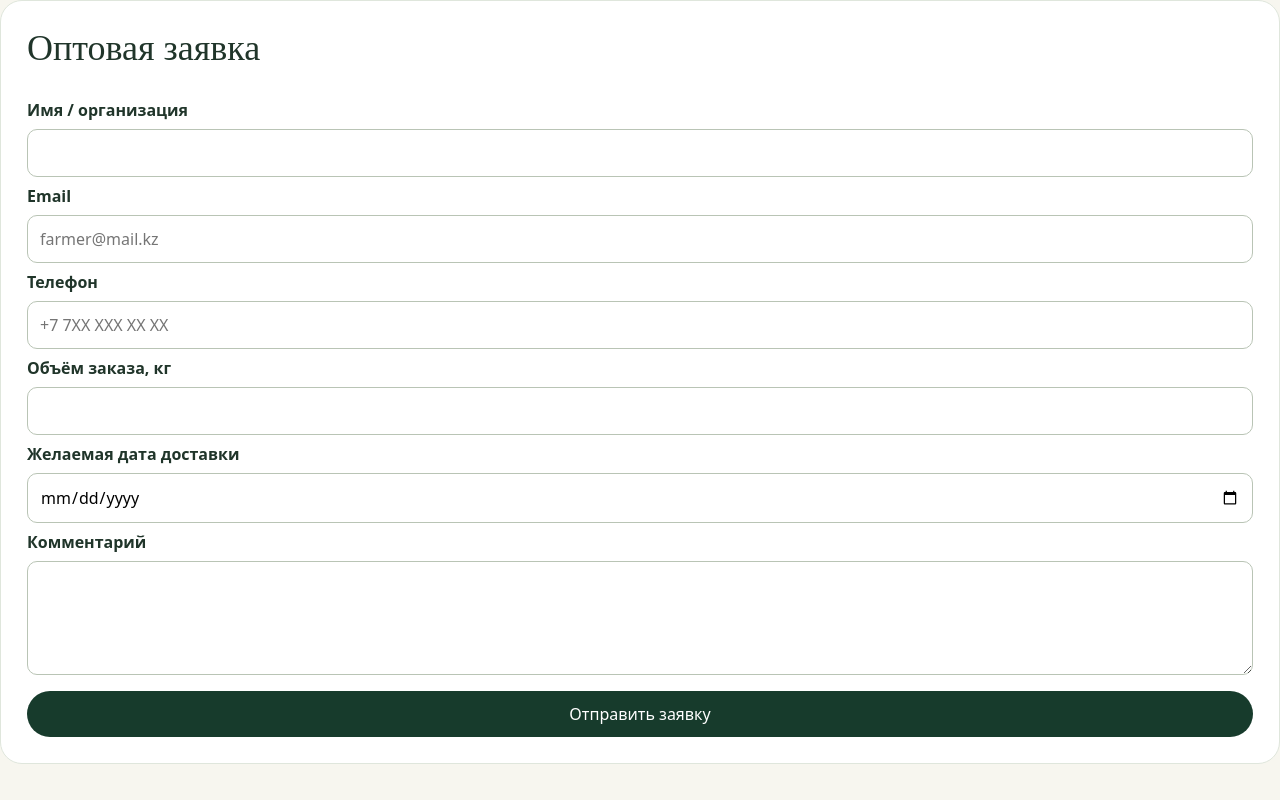
Test: JWT sent with order
Type "Тест" into the field labelled "Имя / организация" at (640, 153), box x1=27 y1=129 x2=1253 y2=177
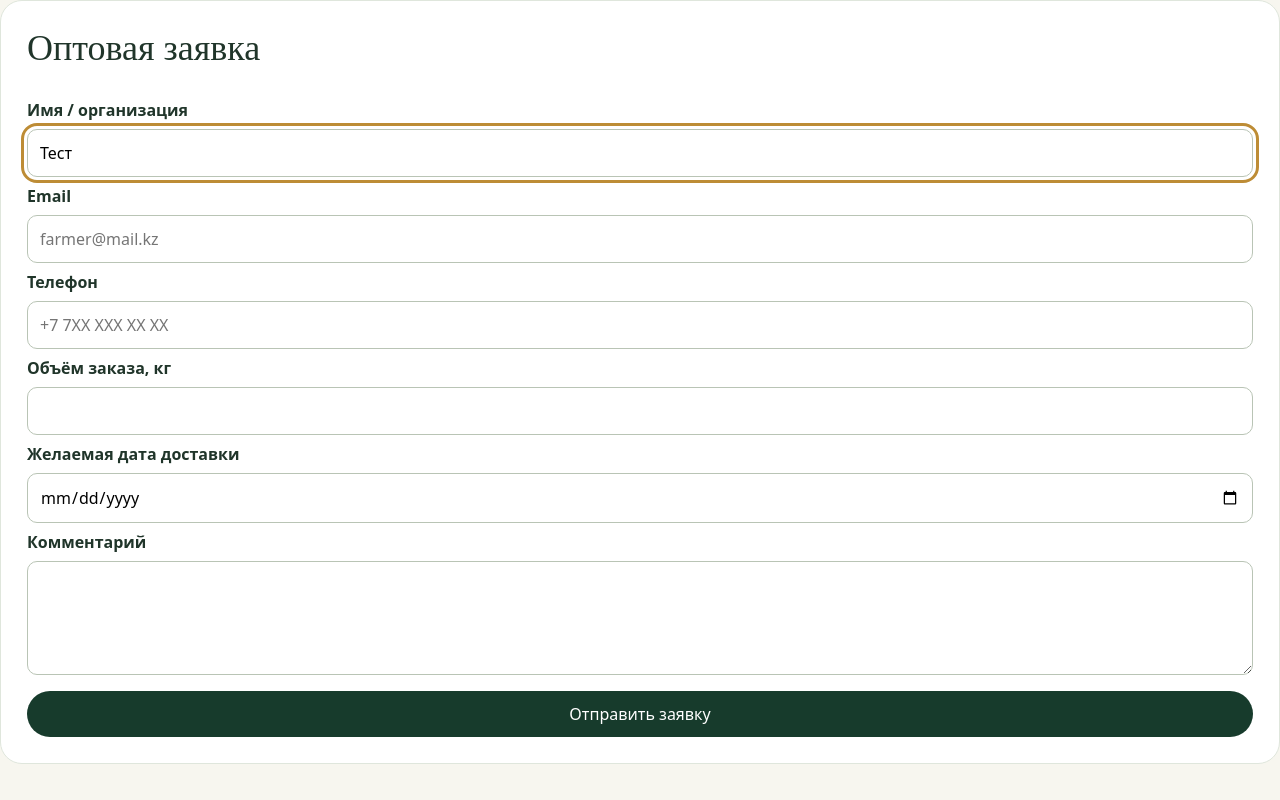
Type "test@example.com" into the field labelled "Email" at (640, 239), box x1=27 y1=215 x2=1253 y2=263
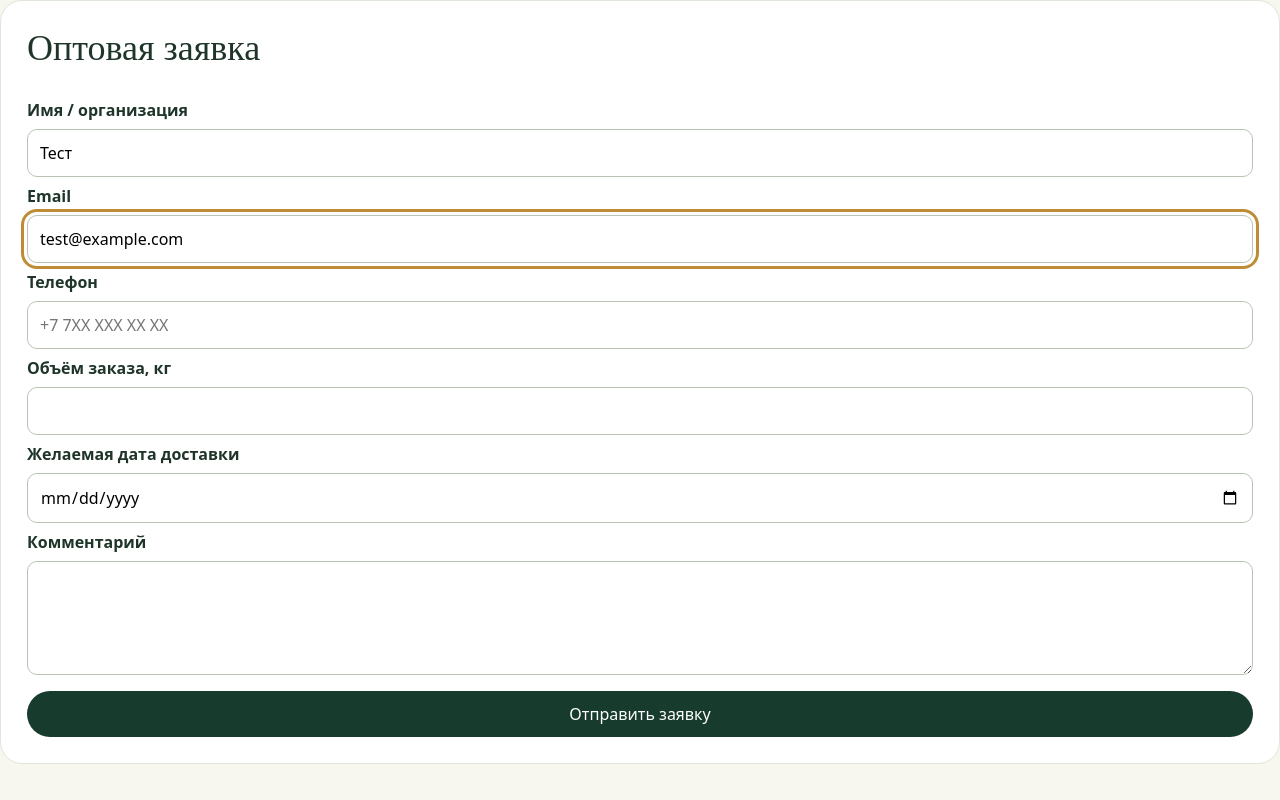
Type "10" into the number field labelled "Объём заказа, кг" at (640, 411), box x1=27 y1=387 x2=1253 y2=435
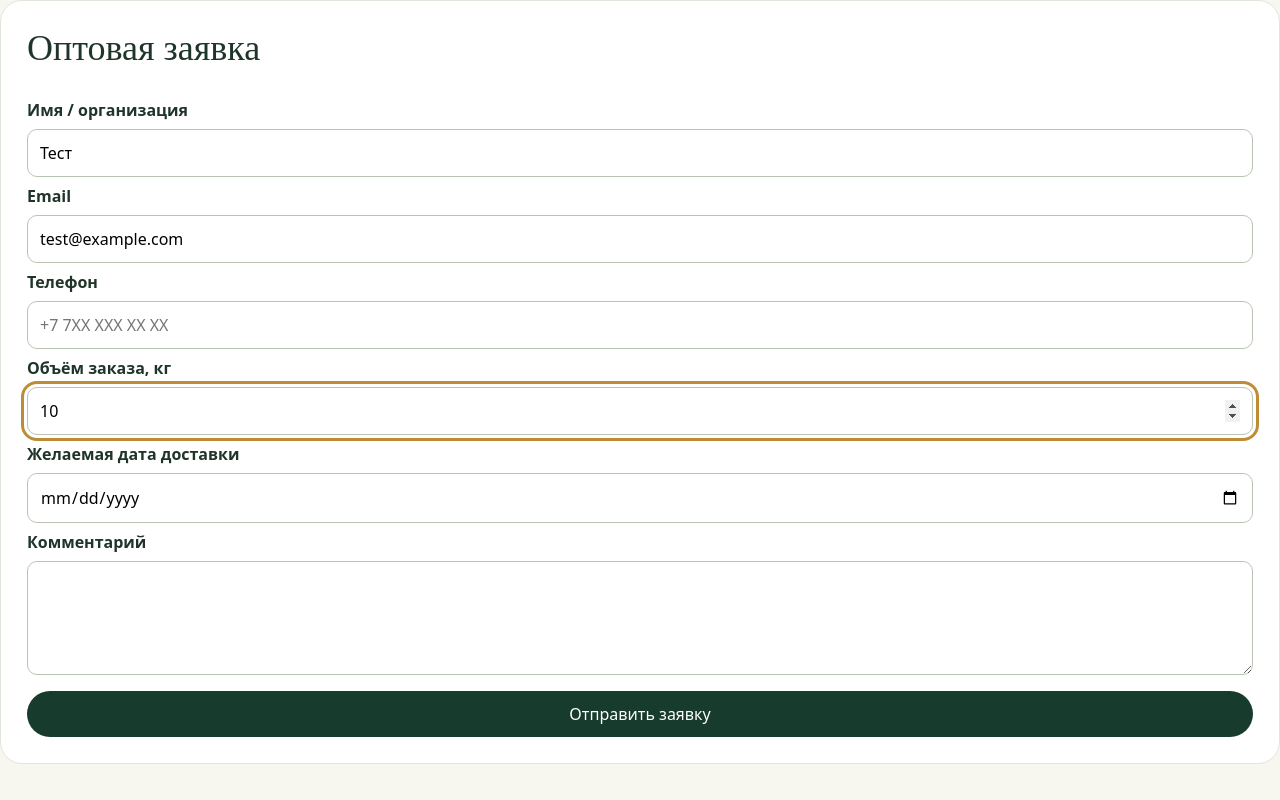
Click the button "Отправить заявку" at (640, 714), box x1=27 y1=691 x2=1253 y2=737
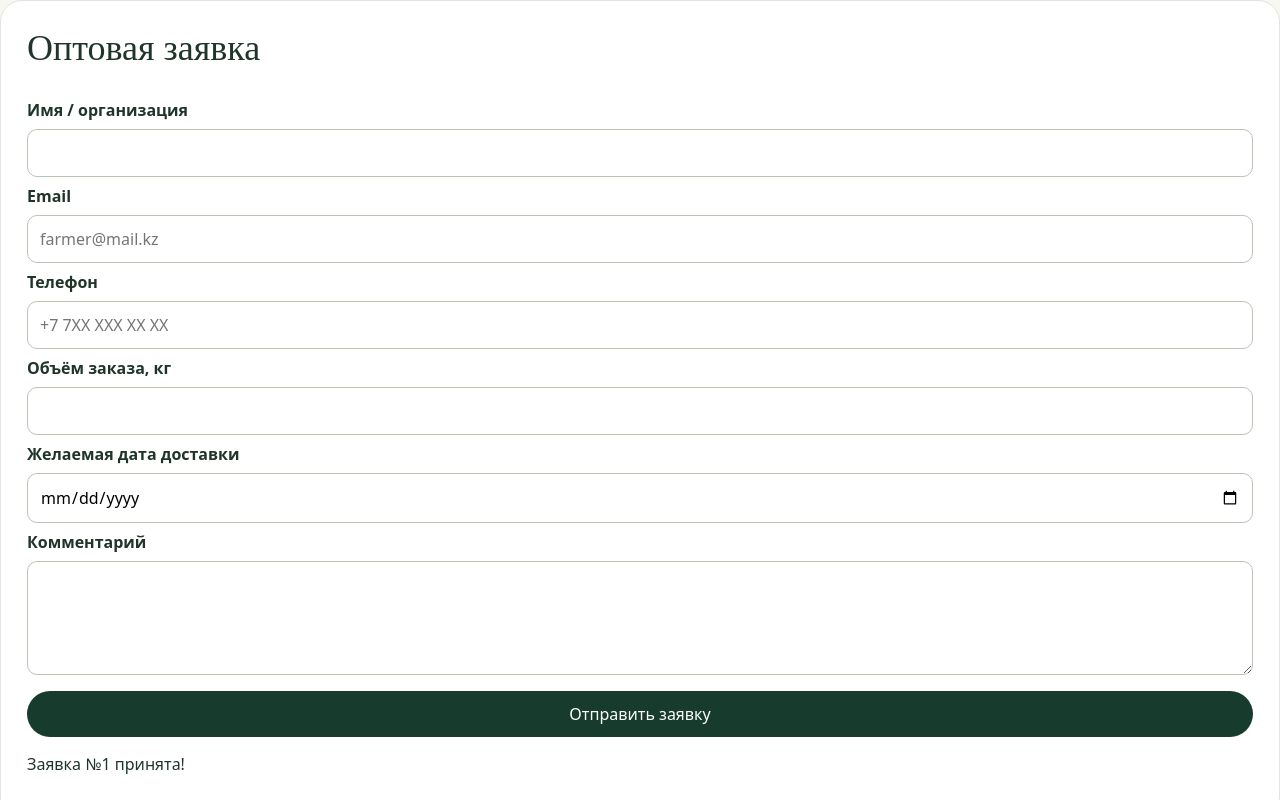
Now the message shows "принята", box x1=27 y1=753 x2=185 y2=775
